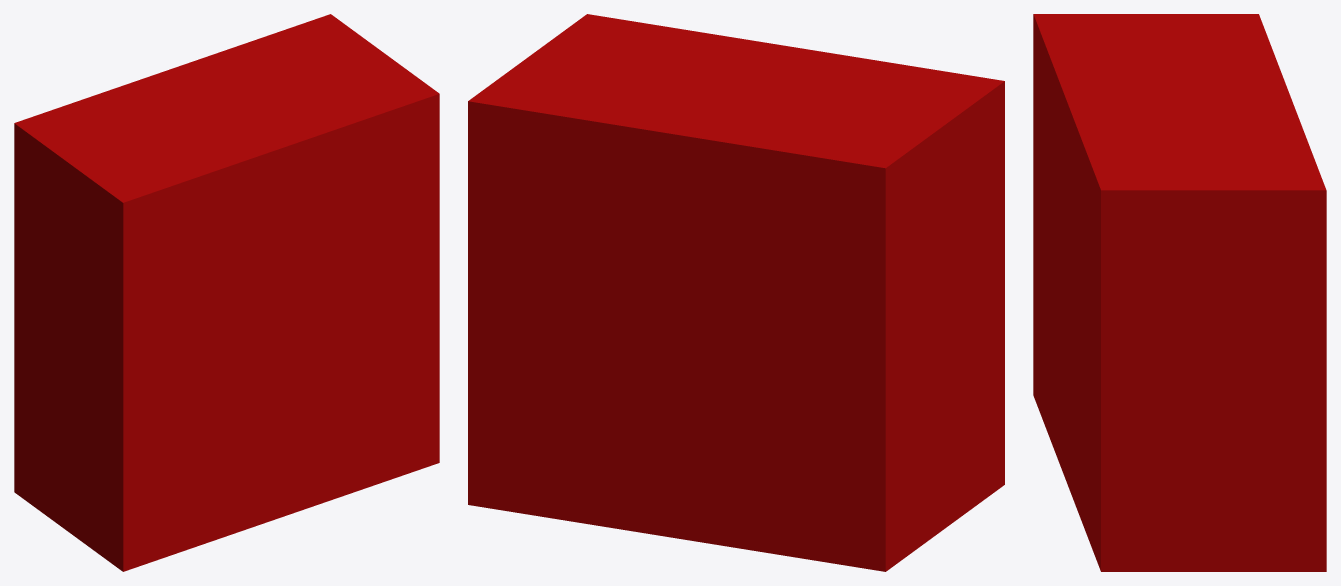
Rendered from UCX_tunnelWallConcaveA_01.fbx.
3 renders of one model, left to right at view 1: azimuth 30°, elevation 25°; view 2: azimuth 150°, elevation 25°; view 3: azimuth 270°, elevation 25°, orthographic. The views are drawn at different scales.
Visible parts, largest first — view 1: UCX_tunnelWallConcaveA_01; view 2: UCX_tunnelWallConcaveA_01; view 3: UCX_tunnelWallConcaveA_01.
Boxes of the visible parts, bbox=[...] form: UCX_tunnelWallConcaveA_01: bbox=[14, 14, 439, 571]; UCX_tunnelWallConcaveA_01: bbox=[468, 14, 1004, 571]; UCX_tunnelWallConcaveA_01: bbox=[1033, 14, 1326, 571].
Size of the model in its own units: 2.98 by 3.01 by 2.09.
